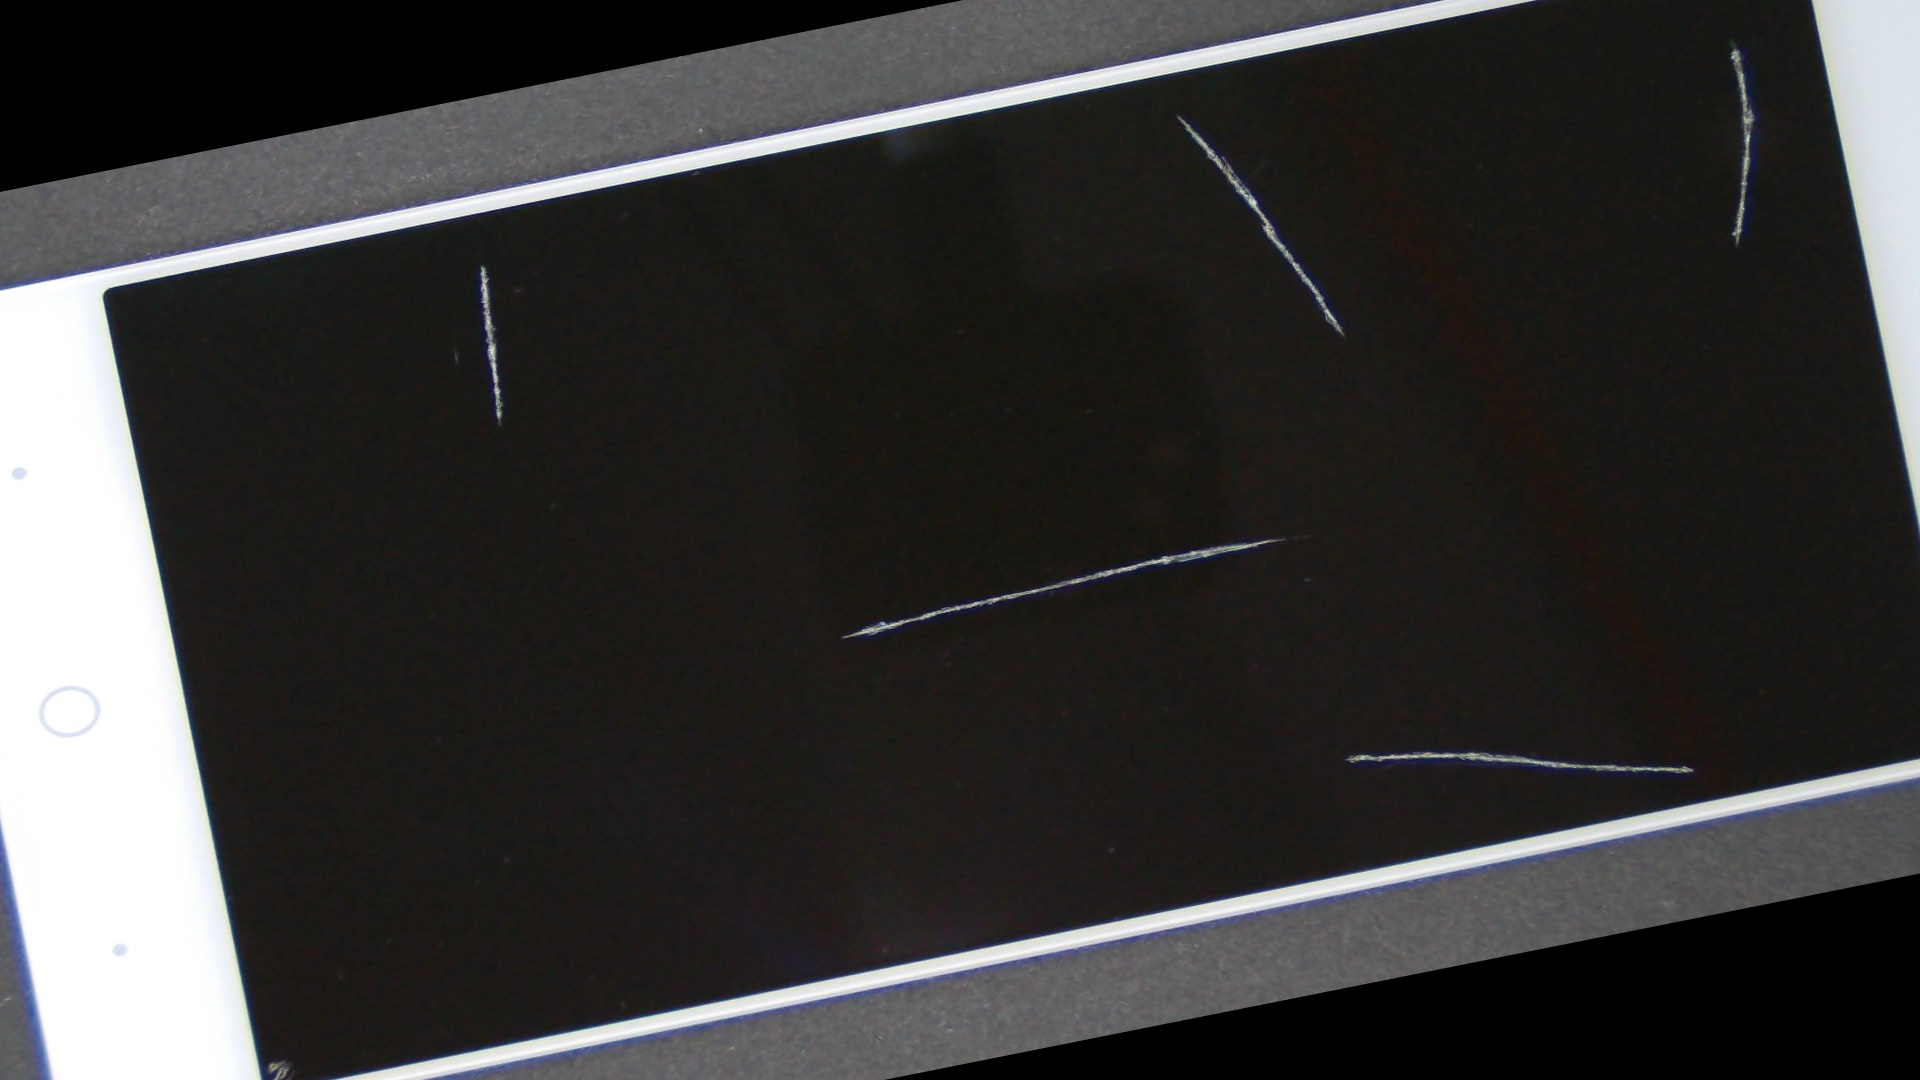oil: (587, 220, 1920, 1080), (495, 146, 1832, 964), (500, 0, 1853, 324), (777, 0, 1920, 322), (152, 120, 807, 411), (46, 591, 427, 1080)
